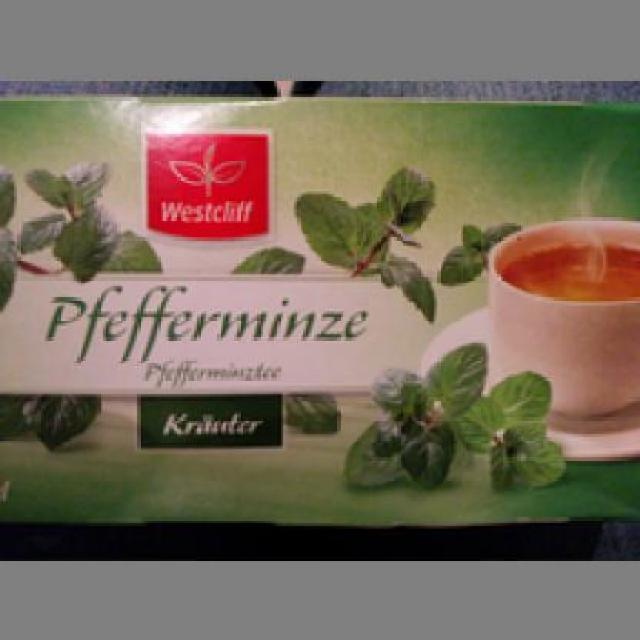Tea: (0, 91, 637, 528)
